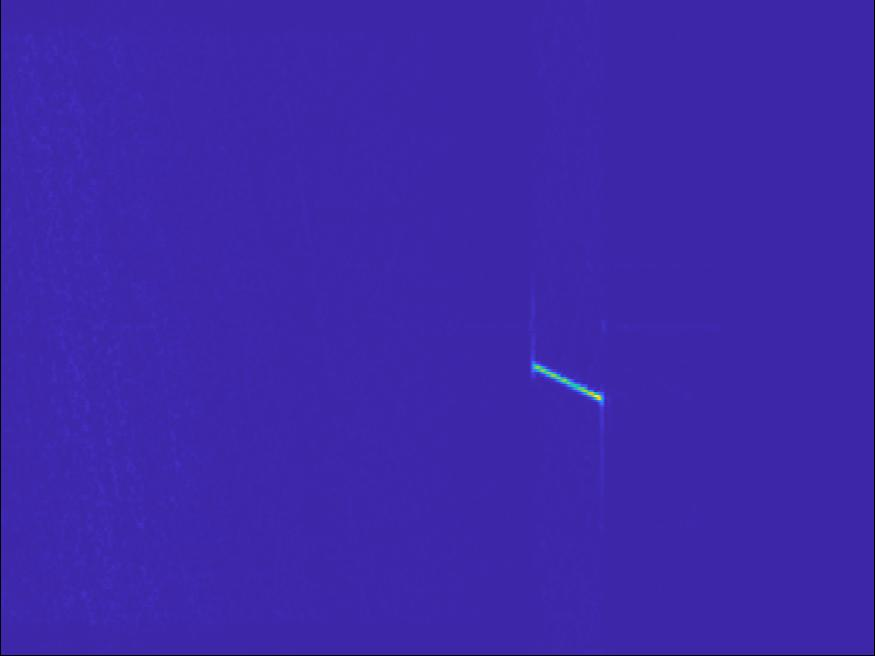Interference: (505, 244, 731, 447), (642, 264, 733, 359), (645, 88, 792, 132), (292, 467, 418, 505), (771, 304, 875, 348)
